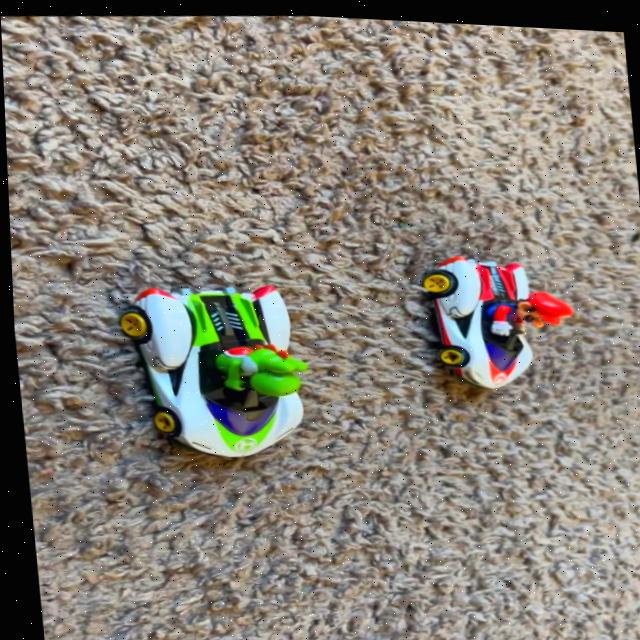mario: (405, 236, 586, 397)
yoshi: (108, 250, 329, 485)
